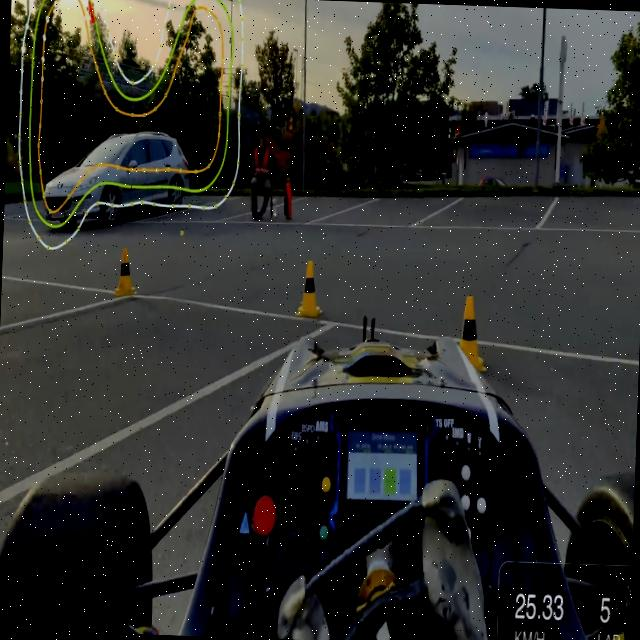yellow_cone: (457, 292, 488, 371), (291, 252, 324, 322), (112, 246, 137, 298)
